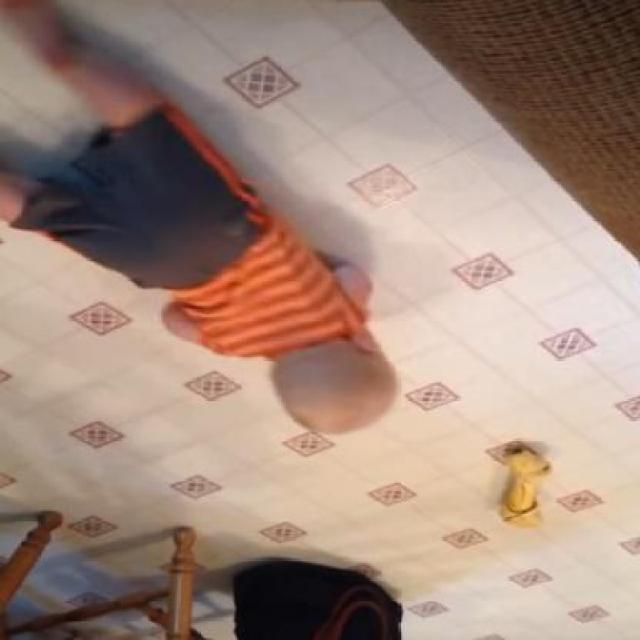baby: (0, 20, 398, 434)
